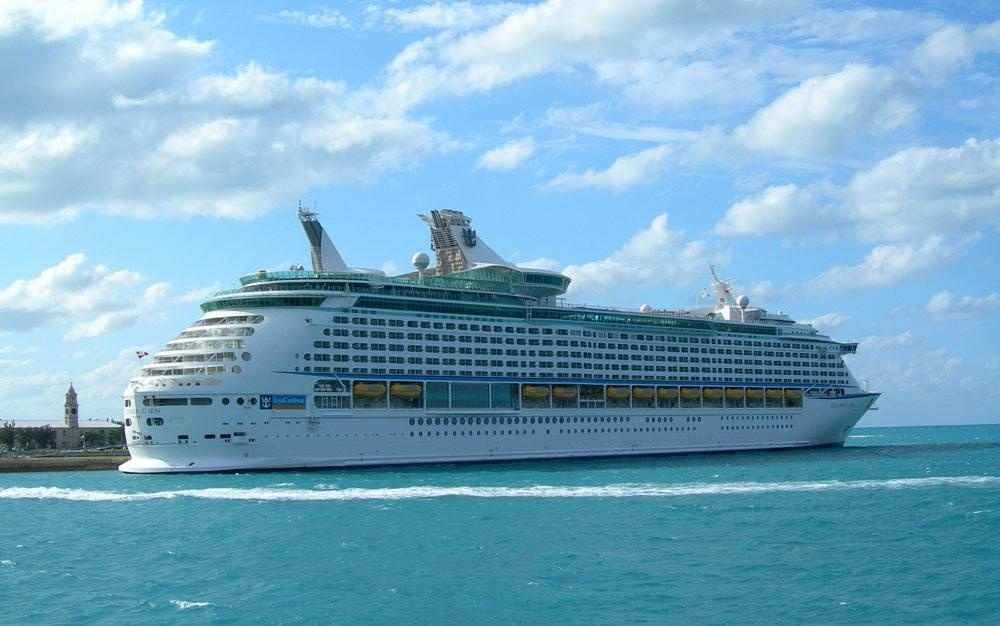youlun: (107, 202, 897, 478)
